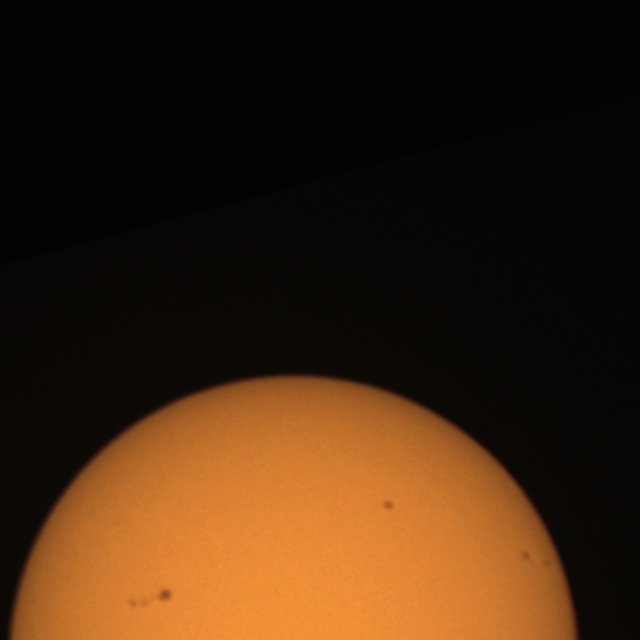sunspot: (126, 586, 174, 610), (520, 548, 552, 570), (155, 586, 174, 606), (380, 498, 396, 514), (520, 550, 532, 564)
